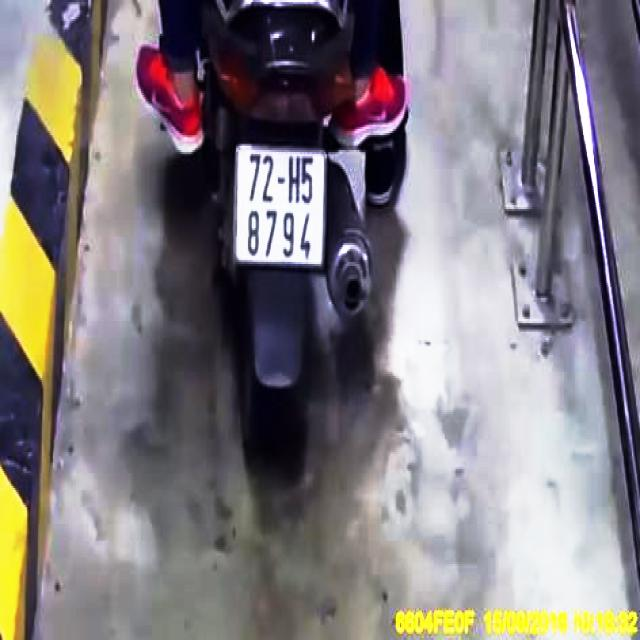license_plate: (235, 145, 325, 270)
